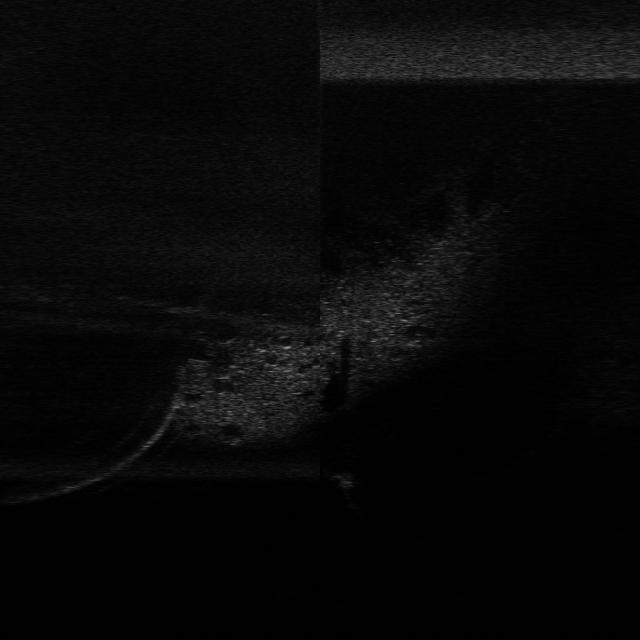cube: (321, 466, 353, 491)
